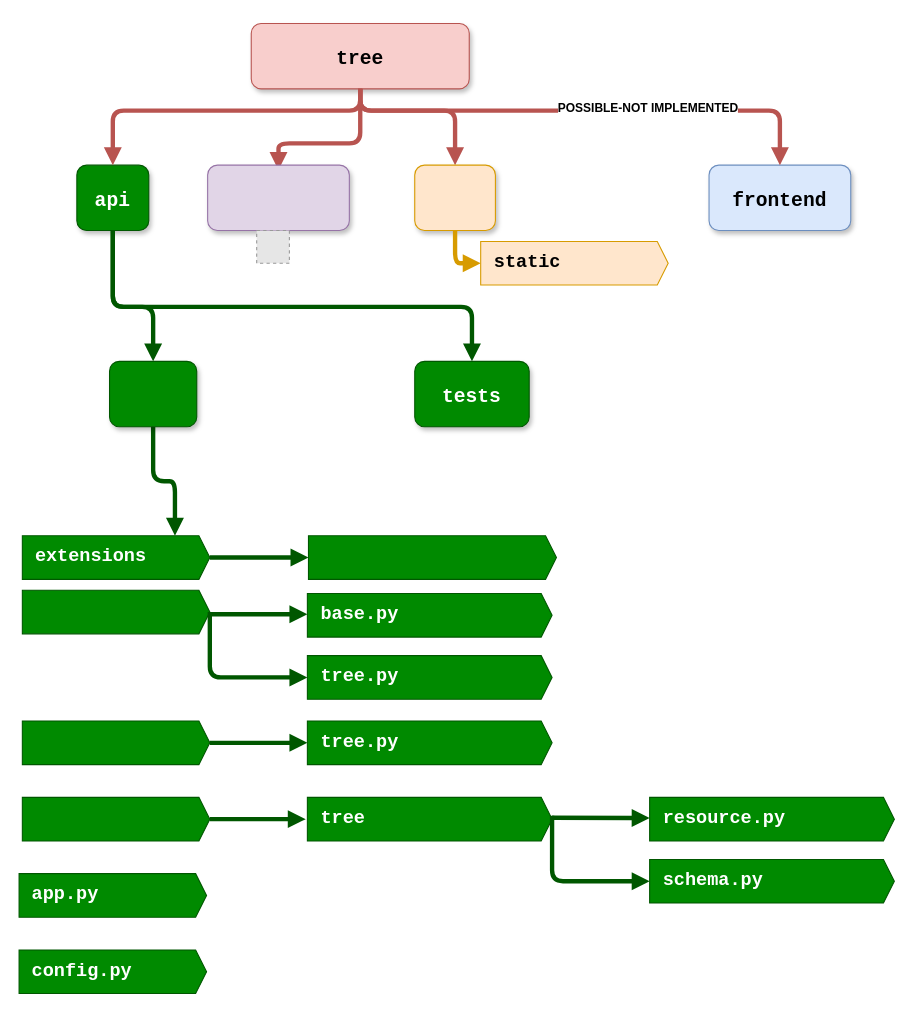
This 913x1013 diagram has some shape labels left out. Grey dashed boxes stand in for pictures. Each missing label, with the centre of its shape:
"docs" goes at point (455, 199).
"main" goes at point (153, 395).
"models" goes at point (115, 611).
"routes_extensions.py" goes at point (431, 557).
"seeds" goes at point (115, 742).
"terraform" goes at point (279, 199).
"v1" goes at point (115, 818).
